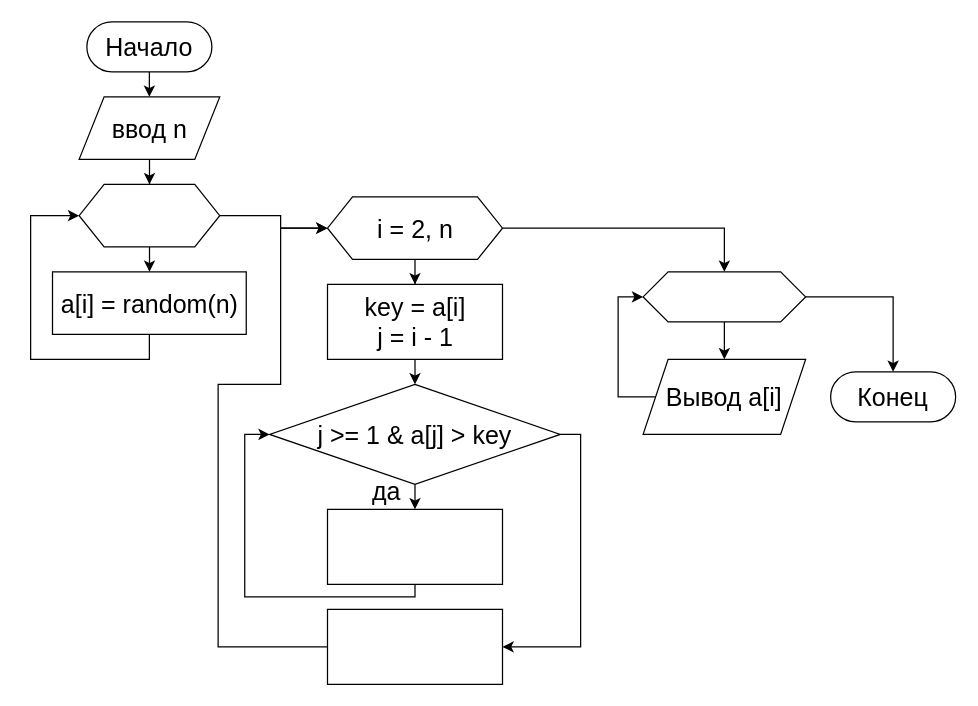
This 978x706 diagram has some shape labels left out. Here are the shapes that lost their labels. From the top down, the centre of each, then its label:
At (x=149, y=215): "i = 1,n".
At (x=724, y=296): "i = 1, n".
At (x=414, y=546): "a[j + 1] = a[j] j = j - 1".
At (x=414, y=646): "a[j + 1] = key".
